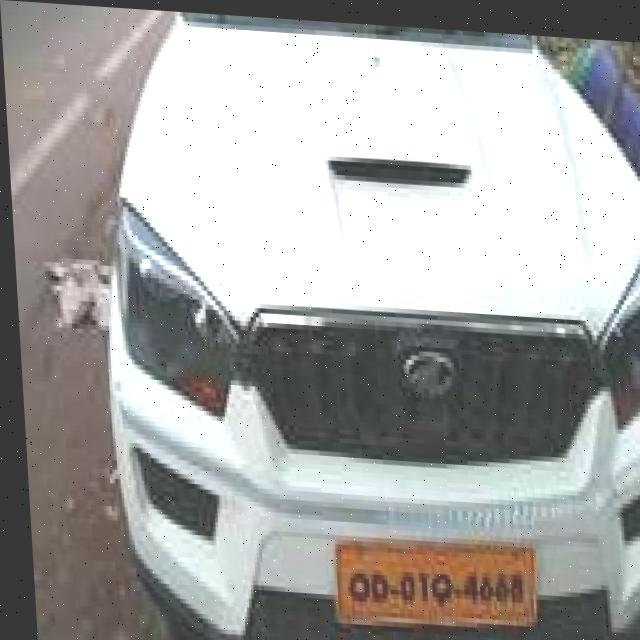plate: (327, 531, 532, 630)
